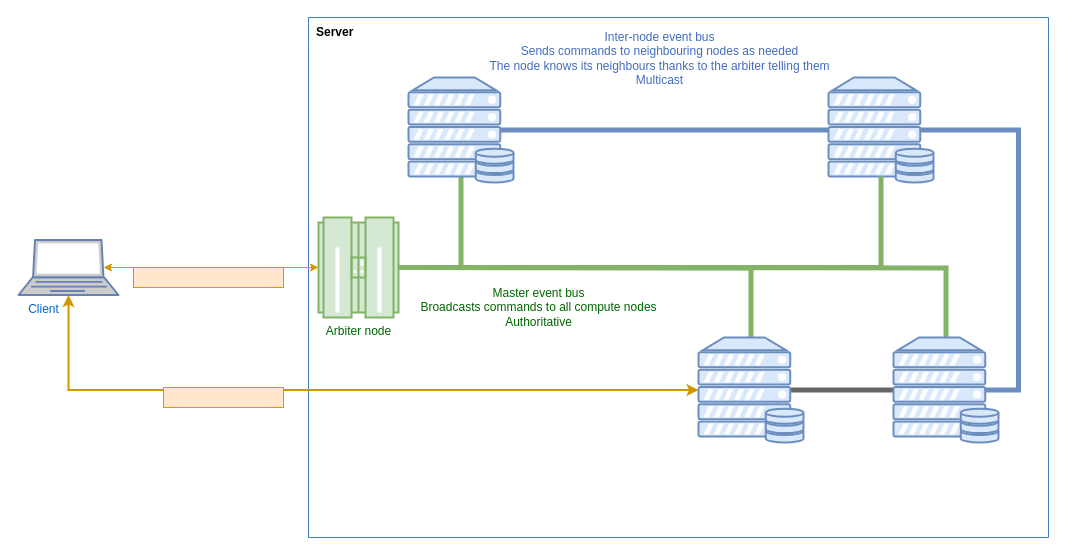
Image size: 1066x555. Some labels were removed from this diagram. The box of each missing label's shape, as (x1, y1, x2, y2) in pixels:
1) Connection handshake: (132, 266, 284, 288)
2) Direct connection: (162, 386, 284, 408)
